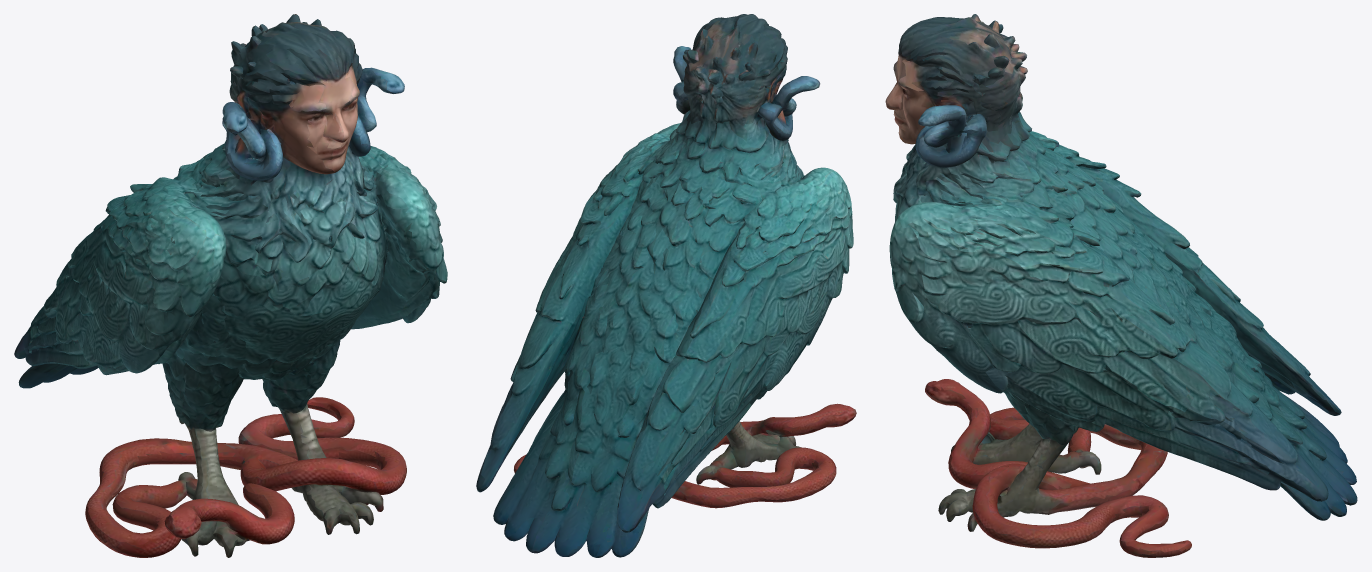
File: yuqiang.glb
3 renders of one model, left to right at view 1: azimuth 30°, elevation 25°; view 2: azimuth 150°, elevation 25°; view 3: azimuth 270°, elevation 25°, orthographic. The views are drawn at different scales.
Parts seen in each view (by area): view 1: geometry_0; view 2: geometry_0; view 3: geometry_0.
Boxes of the visible parts, x1,y1,x2,y2 form: geometry_0: (14, 14, 447, 557); geometry_0: (476, 14, 856, 557); geometry_0: (885, 14, 1357, 557).
Bounding box in the file's own units: 0.2889 × 0.45 × 0.4088.
1 material, 1 textured.
